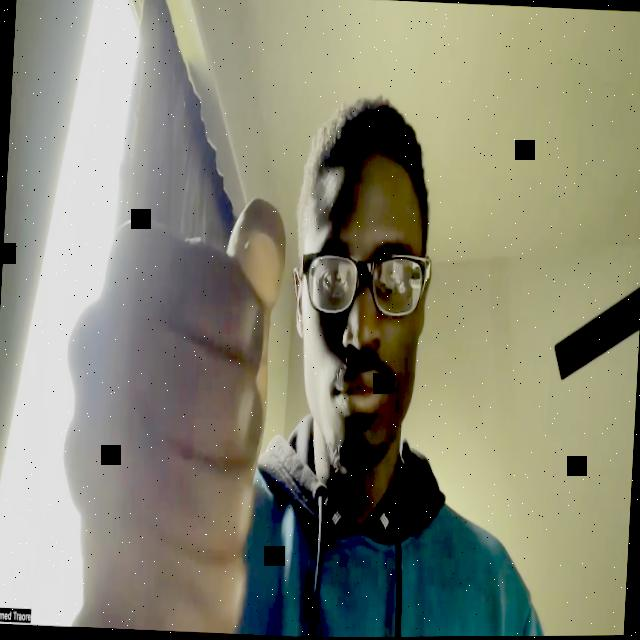Rock: (53, 190, 290, 637)
